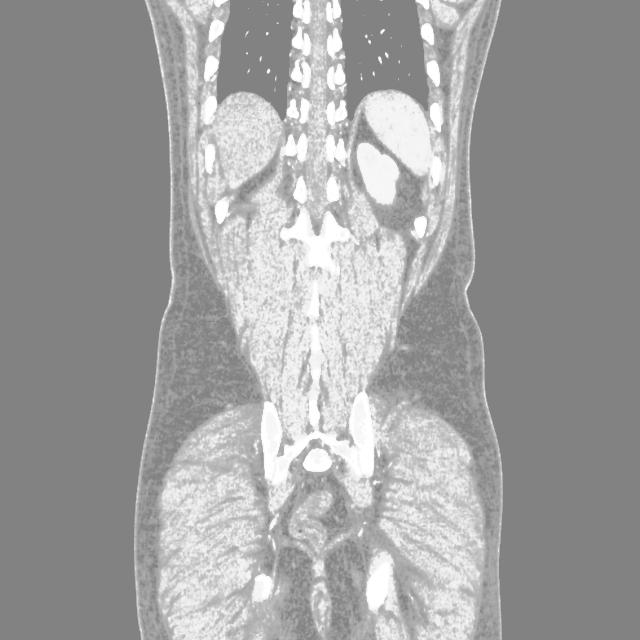NORMAL: (129, 69, 516, 465)
